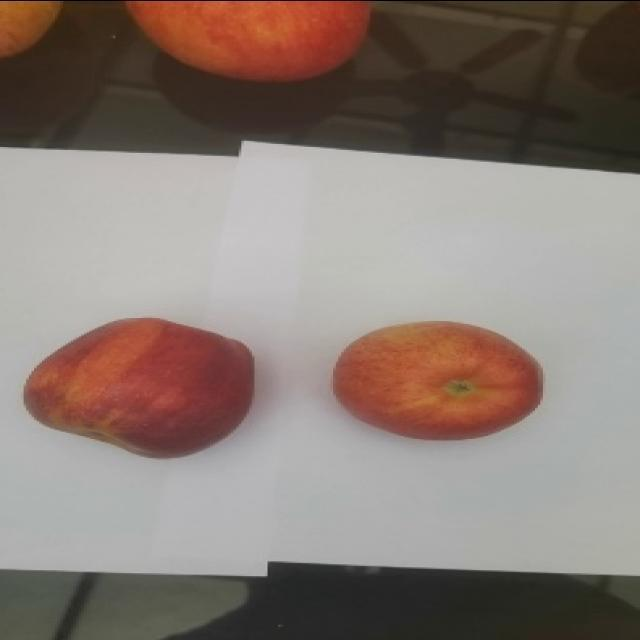Apple: (22, 315, 255, 459), (331, 319, 544, 440), (124, 0, 372, 83), (0, 0, 63, 59)
